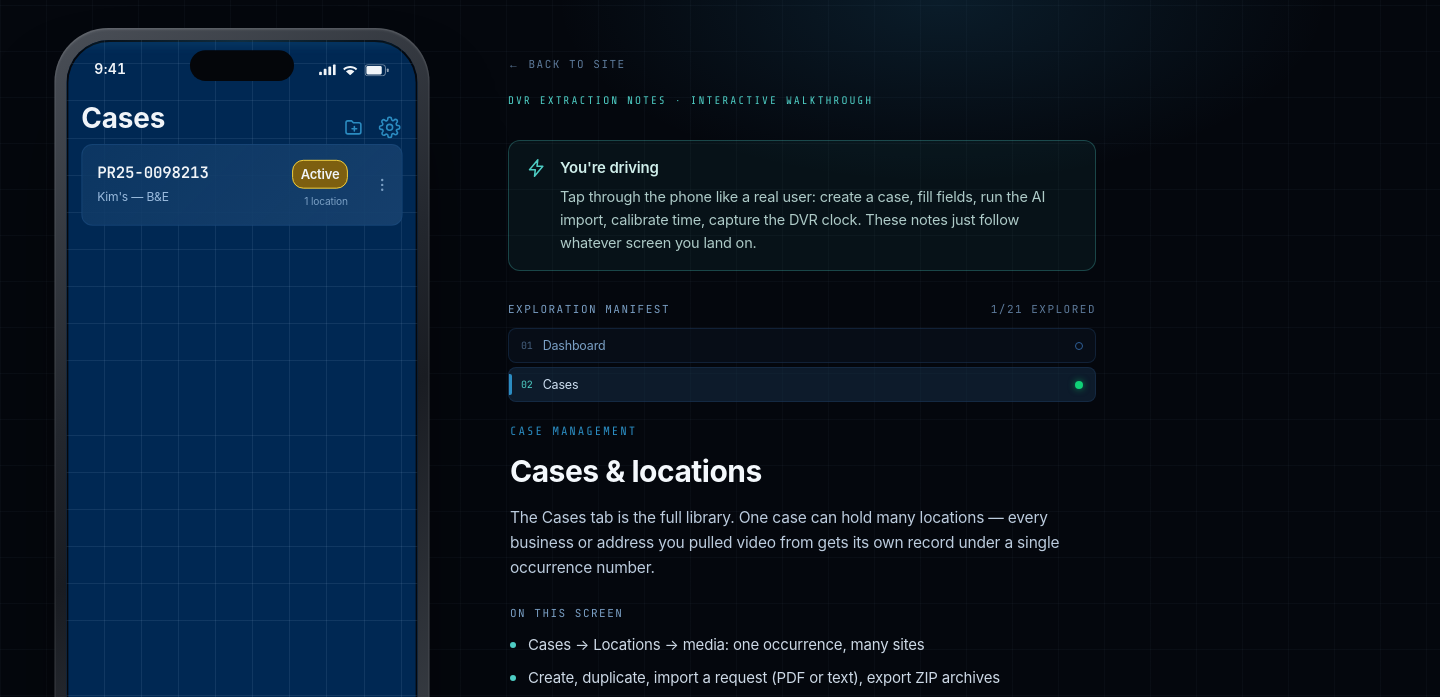
DemoExperience — location action chooser › duplicates the pressed location, keeps the visitor on Cases, and says what happened
Step 1. Click the text "PR25-0098213" → click(153, 172), box [97, 162, 209, 182]
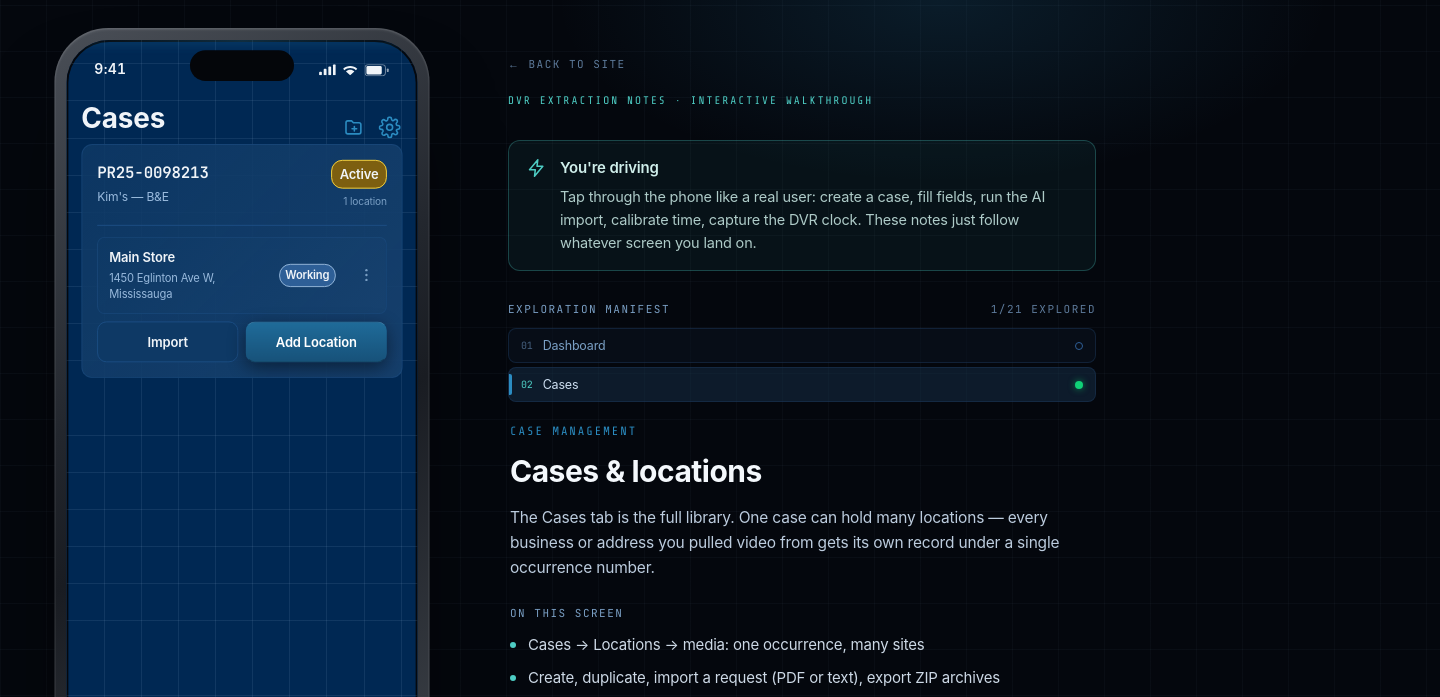
Step 2. Click the button named "Actions for location Main Store" → click(366, 275), box [347, 238, 386, 313]
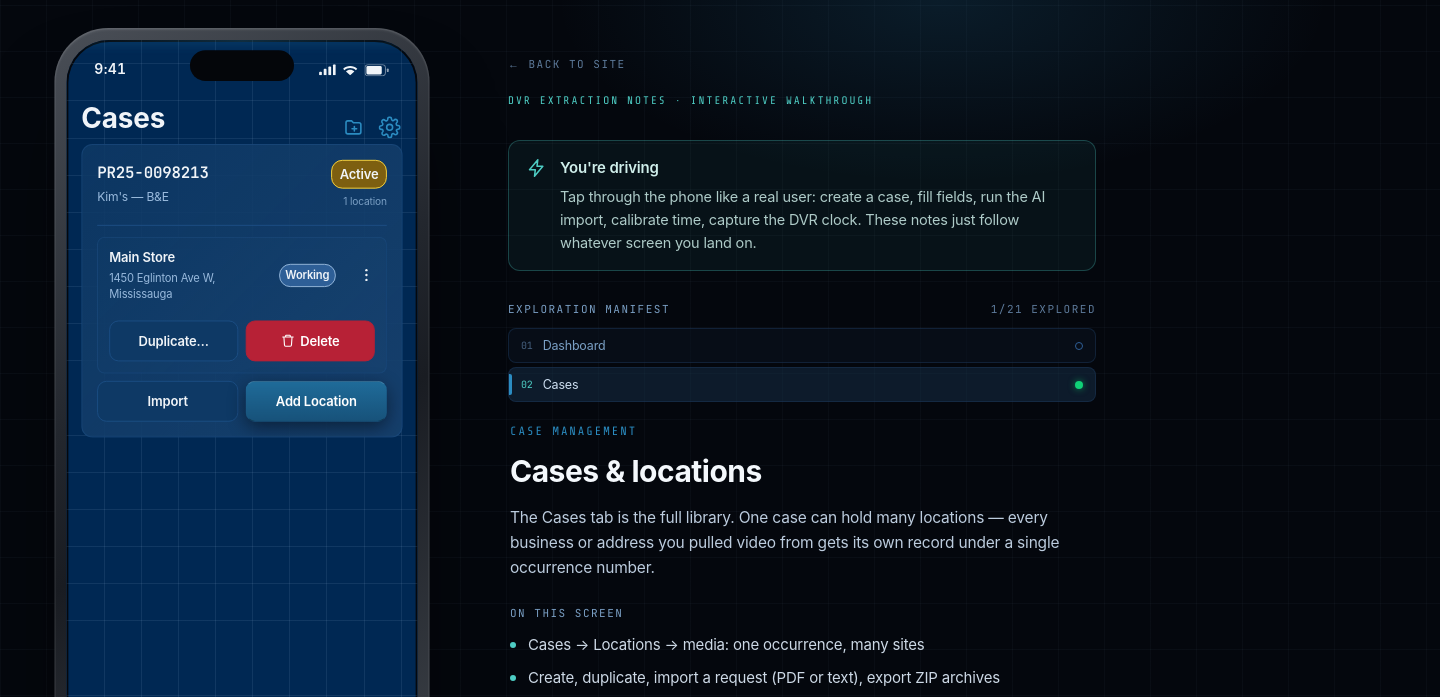
Step 3. Click the button "Duplicate…" → click(174, 341), box [109, 320, 238, 361]
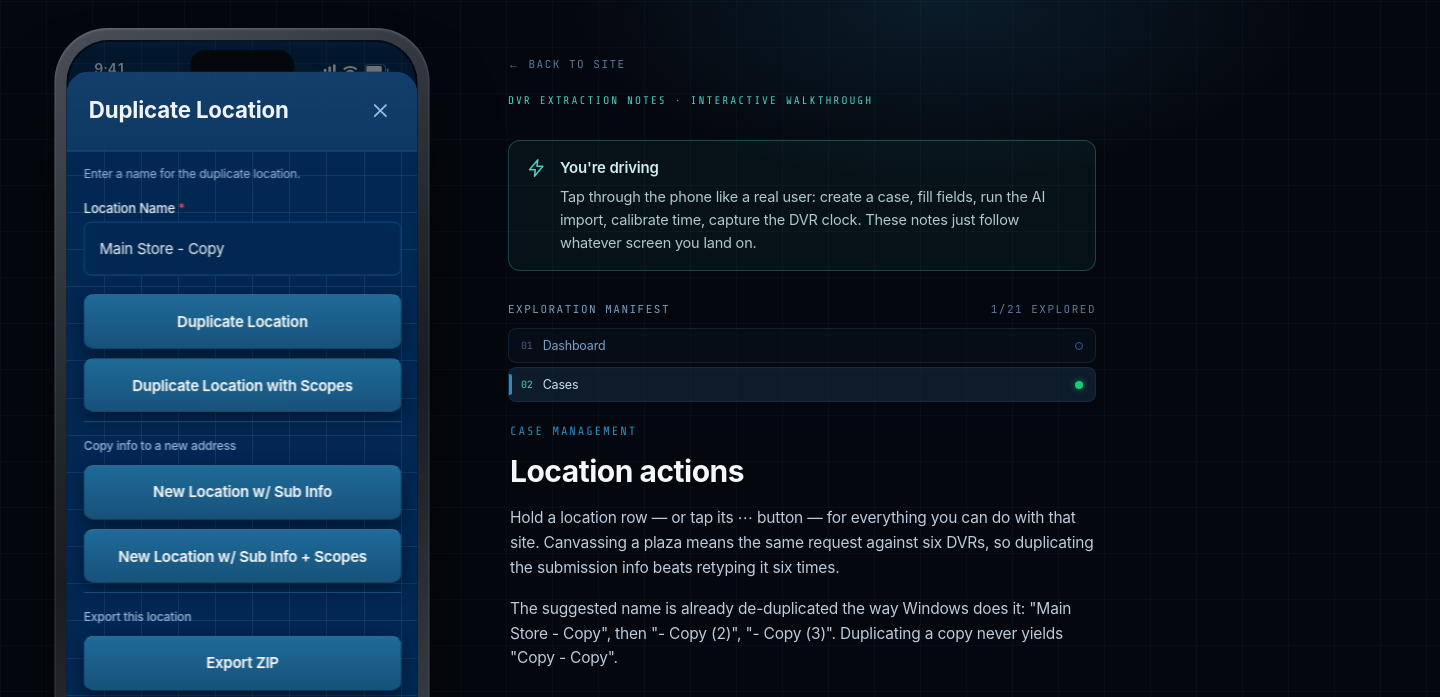
Step 4. Click the button "Duplicate Location with Scopes" → click(242, 385), box [83, 357, 401, 412]
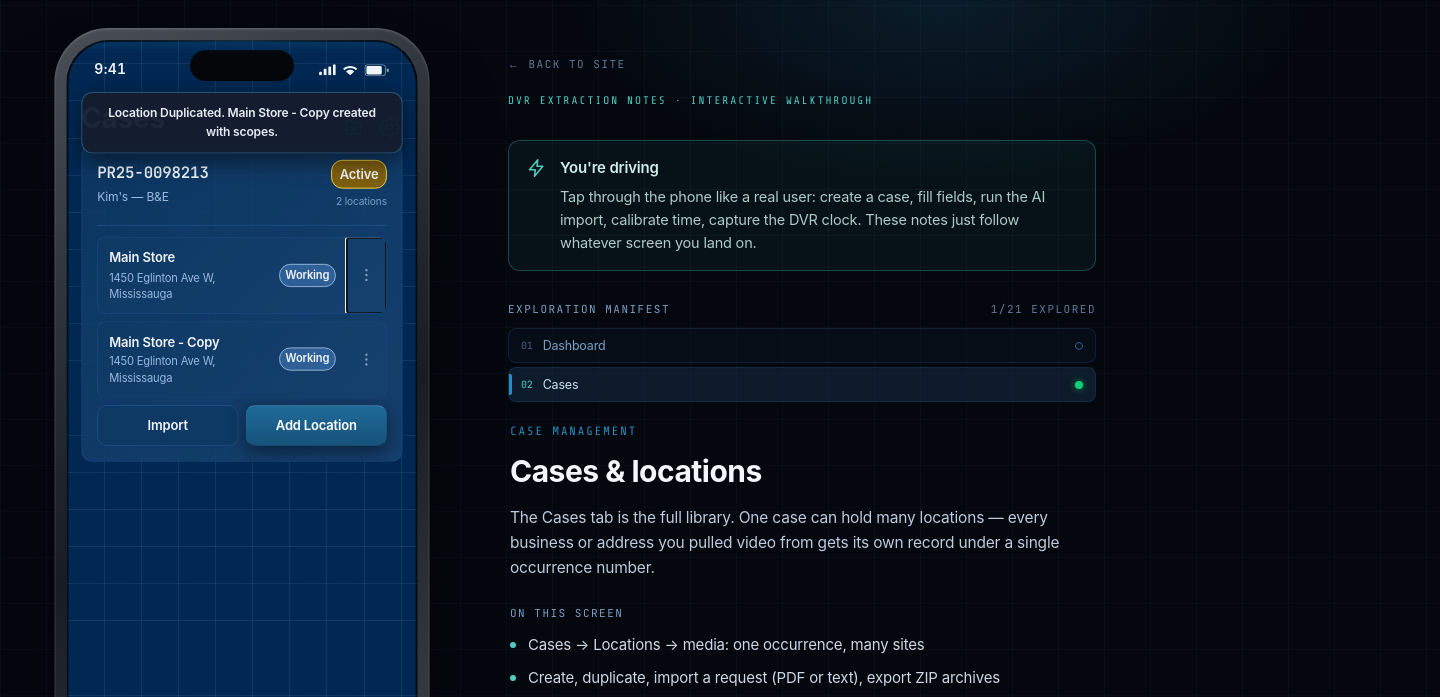
Check: the text "Main Store - Copy" is shown, box [109, 333, 219, 349]
Check: the text "Duplicate Location" is gone
Check: the message with test id "demo-notification" reads "Location Duplicated. Main Store - Copy created with scopes.", box [108, 105, 376, 138]
